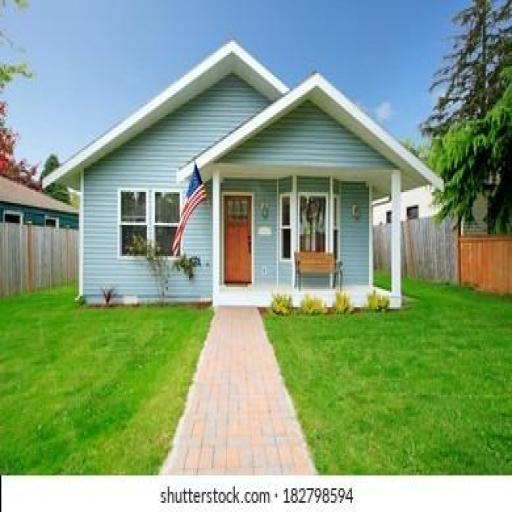door: (221, 191, 258, 301)
